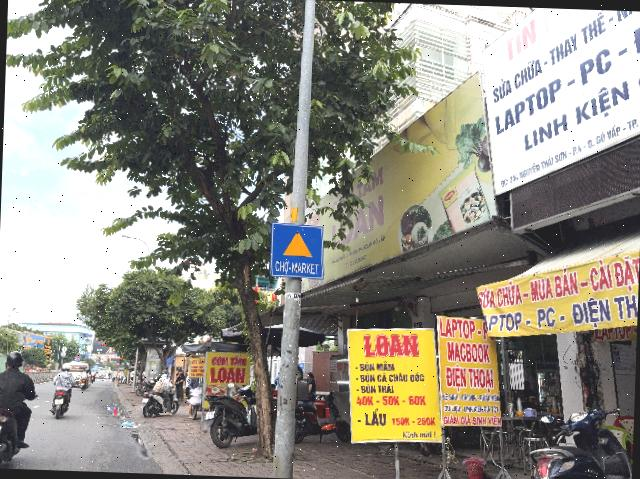khu-vuc-cho-phia-truoc: (270, 222, 326, 280)
